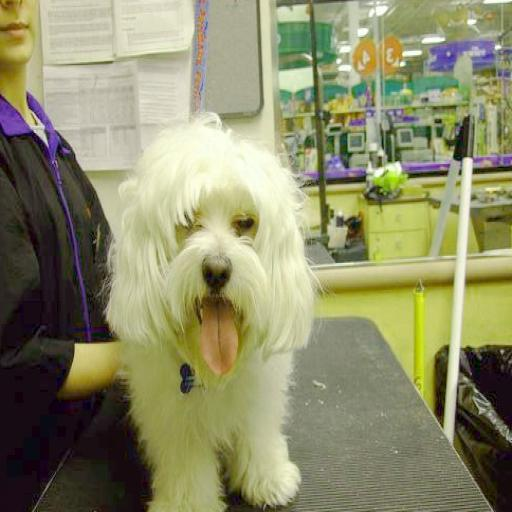dog_face: (112, 126, 309, 349)
